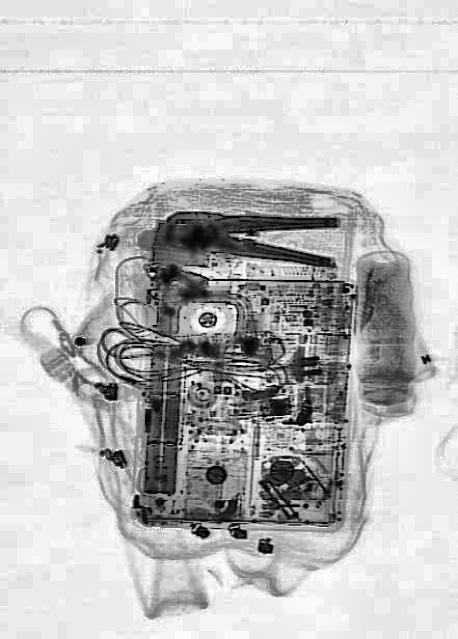Pliers: (162, 200, 338, 268)
